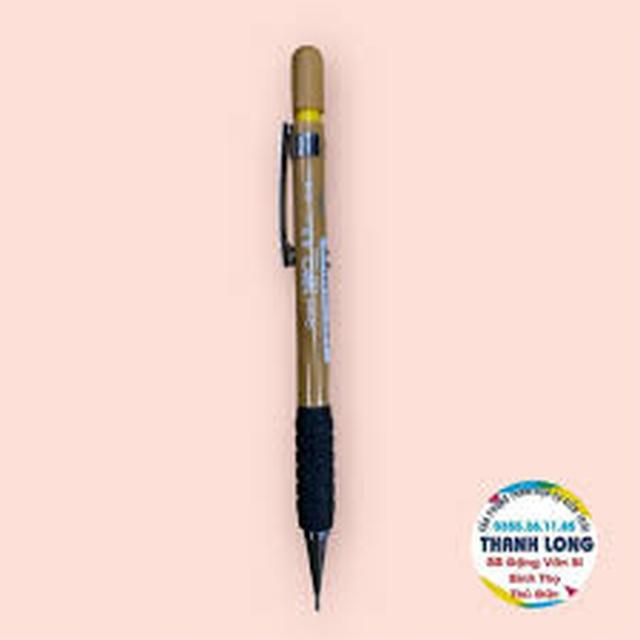pen: (255, 34, 356, 616)
